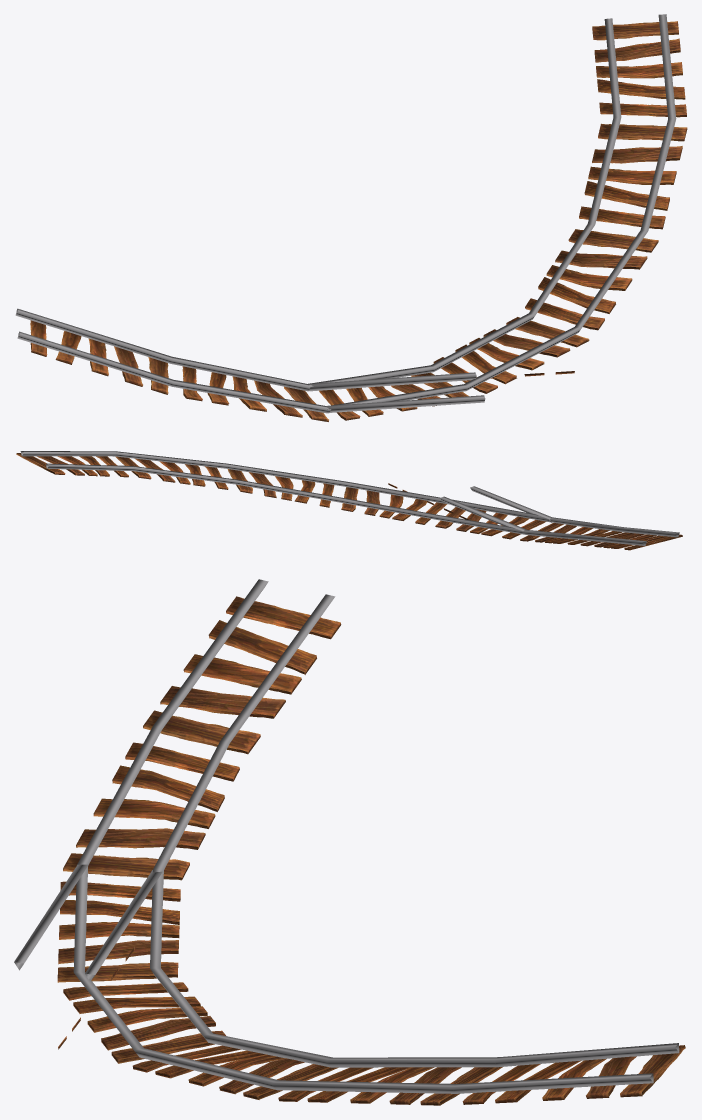
File: SWORDLIGHT20_MAIN1RAILS1W.fbx
3 views of the same model, one above another, from view 1: azimuth 30°, elevation 25°; view 2: azimuth 150°, elevation 25°; view 3: azimuth 270°, elevation 25° (orthographic). The views are drawn at different scales.
Visible parts, largest first — view 1: SWORDLIGHT20_MAIN1RAILS1W; view 2: SWORDLIGHT20_MAIN1RAILS1W; view 3: SWORDLIGHT20_MAIN1RAILS1W.
Boxes of the visible parts, <box> form: SWORDLIGHT20_MAIN1RAILS1W: <box>15,14,687,421</box>; SWORDLIGHT20_MAIN1RAILS1W: <box>16,451,682,550</box>; SWORDLIGHT20_MAIN1RAILS1W: <box>14,579,685,1105</box>.
Size of the model in its own units: 174605 by 27103 by 91192.
Materials: 2 (2 with a texture image).
